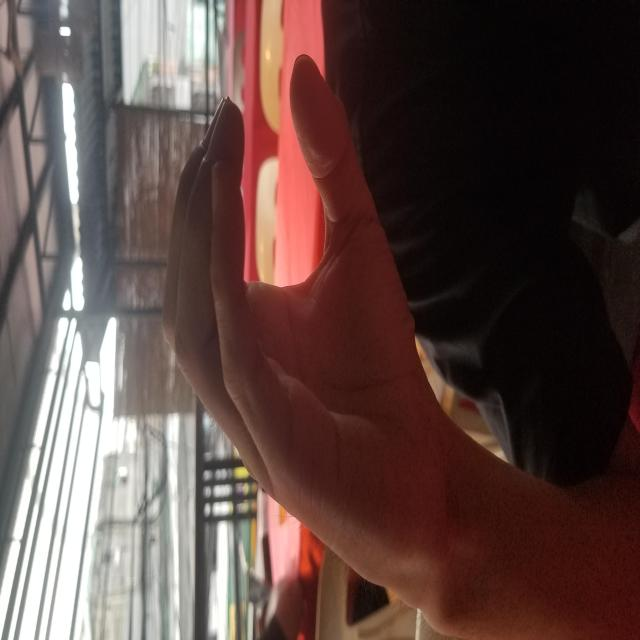C: (74, 51, 551, 586)
